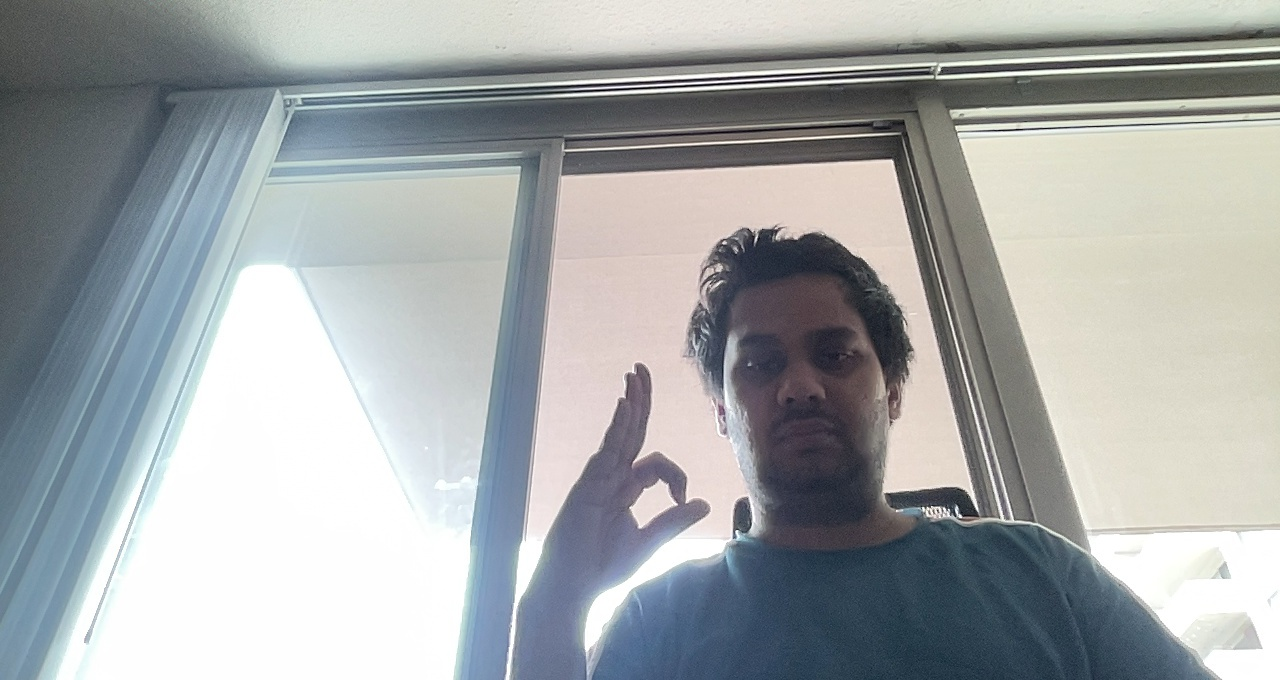ok: (544, 356, 718, 578)
